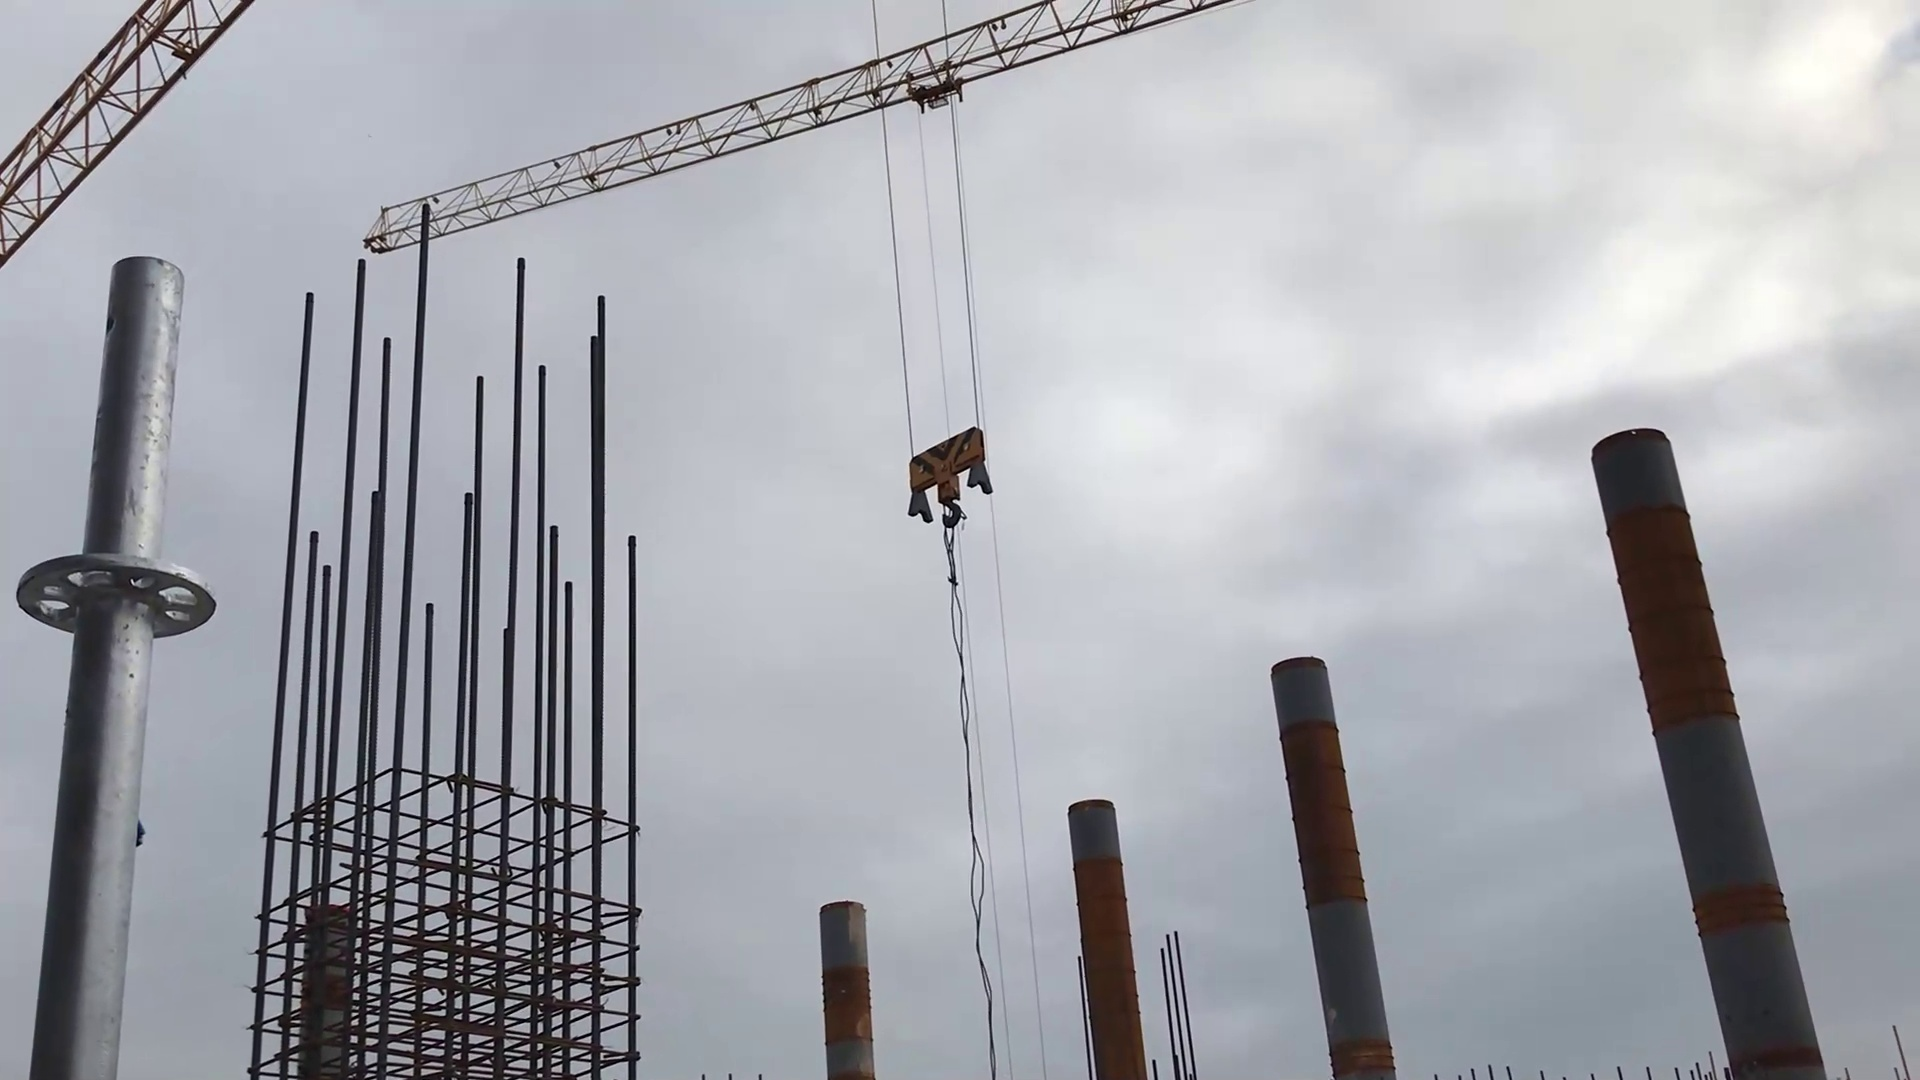hook: (893, 421, 1000, 543)
